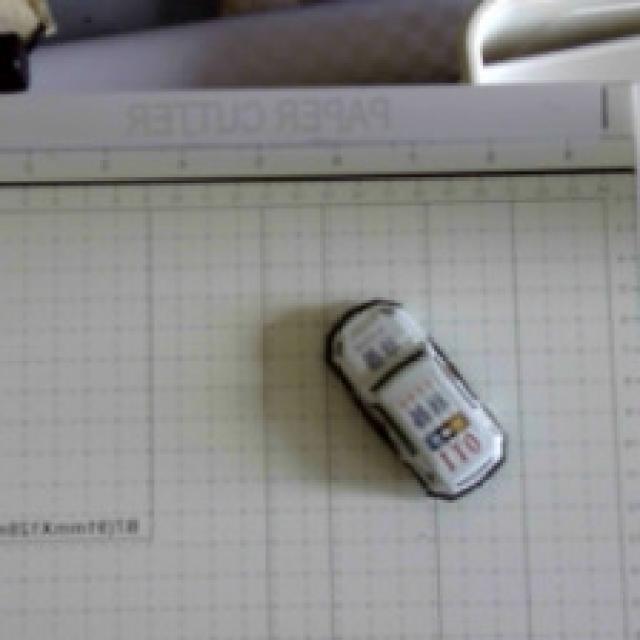Grey Car: (273, 257, 562, 522)
